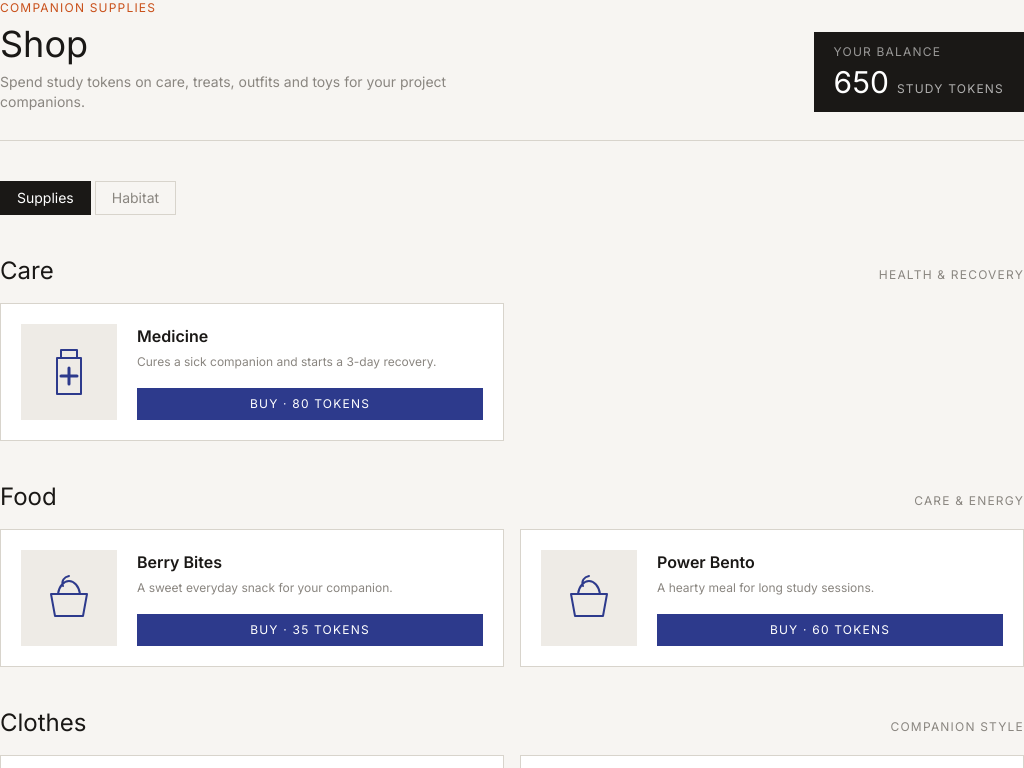
Scenario: Shop › buys an item
Click the button "Buy · 80 tokens" at x=310, y=404, box [137, 388, 483, 420]
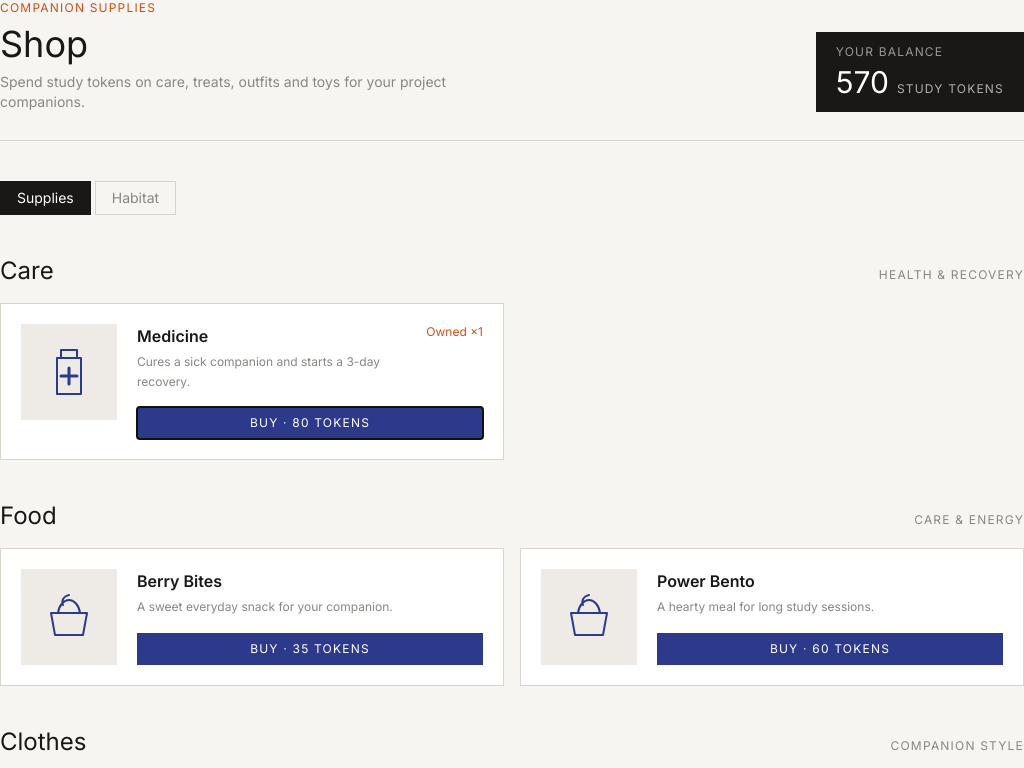
Now the text "570" is shown, box [836, 64, 889, 100]
Now the text "Owned ×1" is shown, box [426, 324, 483, 340]
